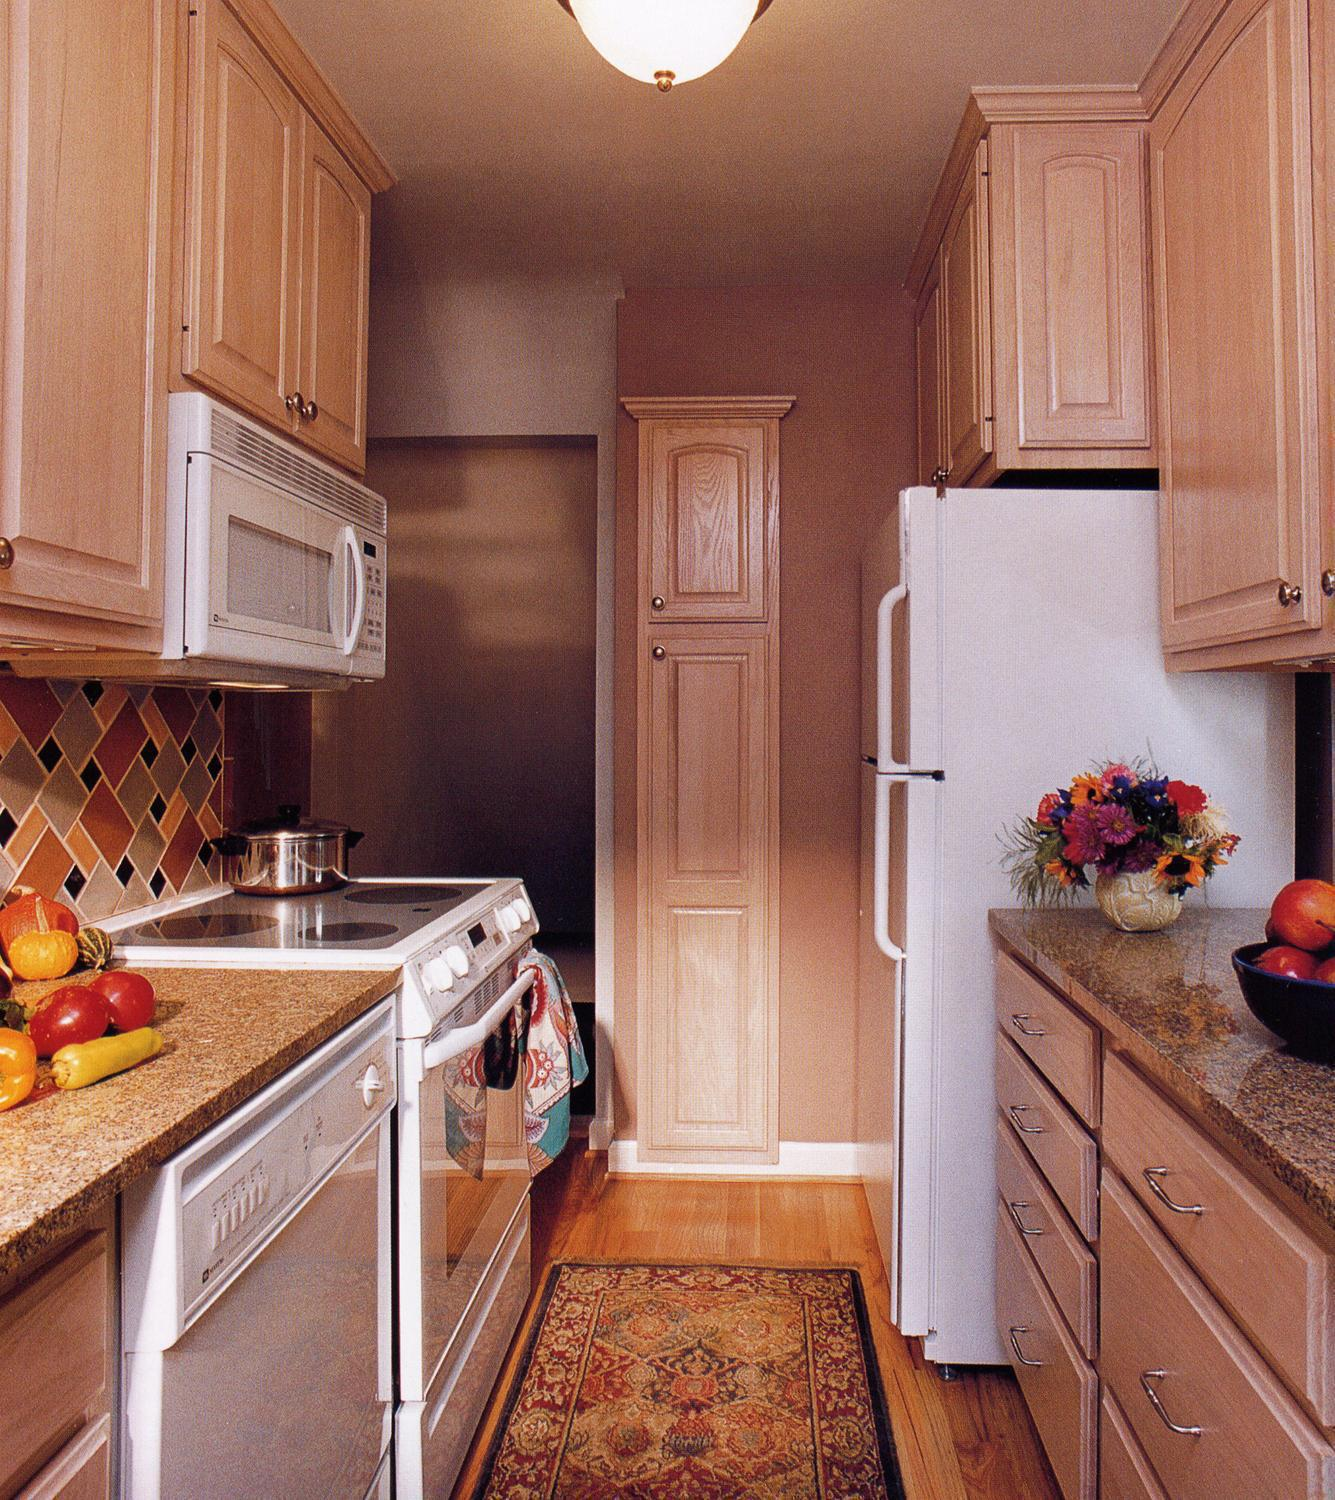Electrodomestico: (856, 488, 1001, 1357), (149, 1135, 397, 1478), (401, 880, 543, 1430)
